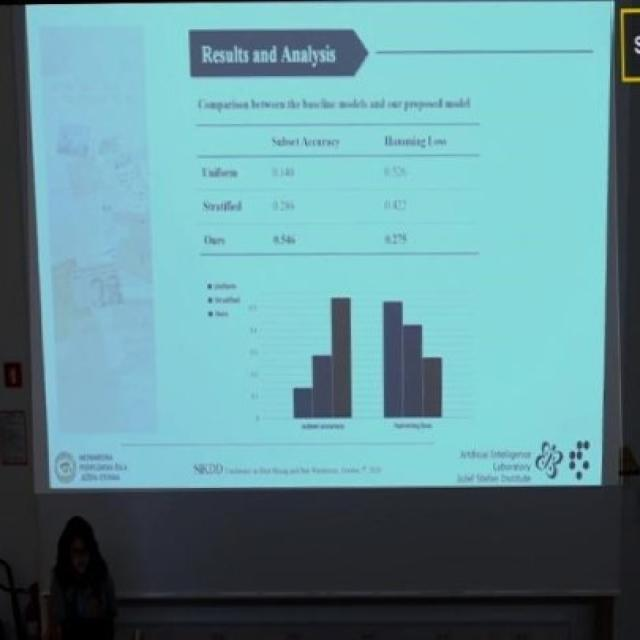Instructor: (38, 508, 116, 640)
Slide: (26, 0, 612, 483)
